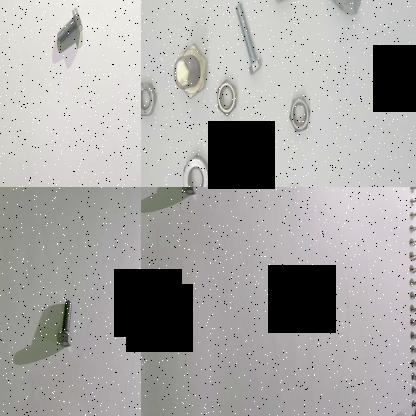Bolts: (232, 0, 268, 77), (170, 40, 209, 110), (52, 5, 83, 51), (54, 298, 78, 348), (216, 157, 254, 187)
NUTS: (212, 73, 244, 125), (286, 88, 312, 146), (178, 151, 210, 187), (141, 76, 160, 123)
